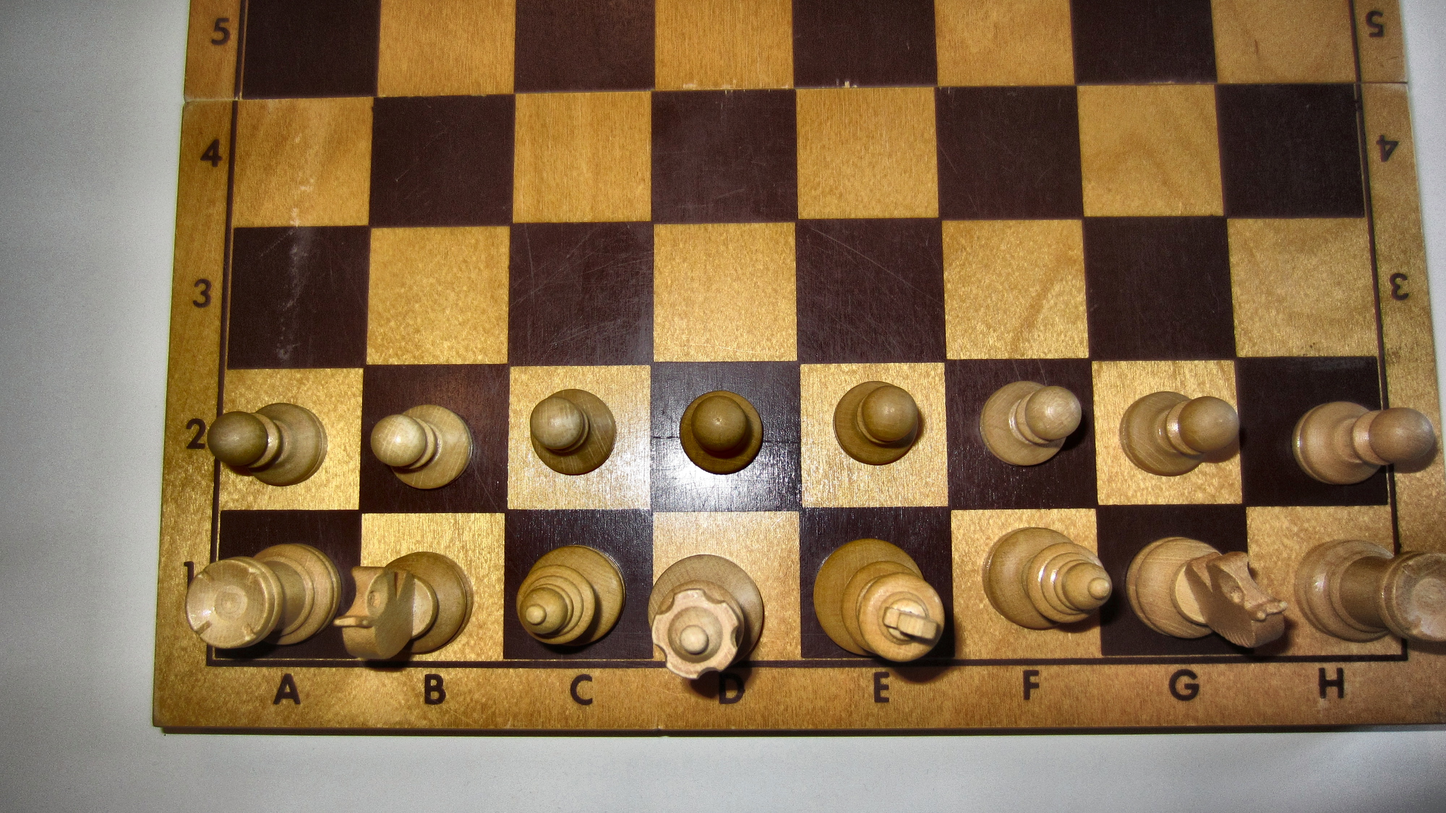white-bishop: (978, 525, 1113, 631), (514, 544, 627, 648)
white-king: (812, 537, 946, 663)
white-knight: (1124, 536, 1288, 650), (333, 550, 476, 659)
white-pawn: (1289, 400, 1437, 485), (205, 400, 328, 488), (1118, 390, 1239, 479), (369, 404, 476, 492), (977, 380, 1081, 467), (526, 386, 619, 476), (830, 379, 921, 467), (677, 388, 766, 475)
white-queen: (646, 553, 766, 682)
white-rook: (184, 540, 341, 651), (1292, 537, 1446, 645)
